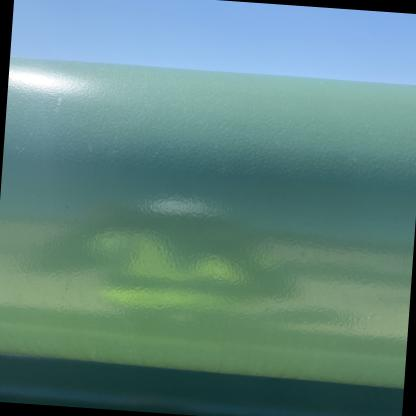clean: (202, 107, 288, 196)
